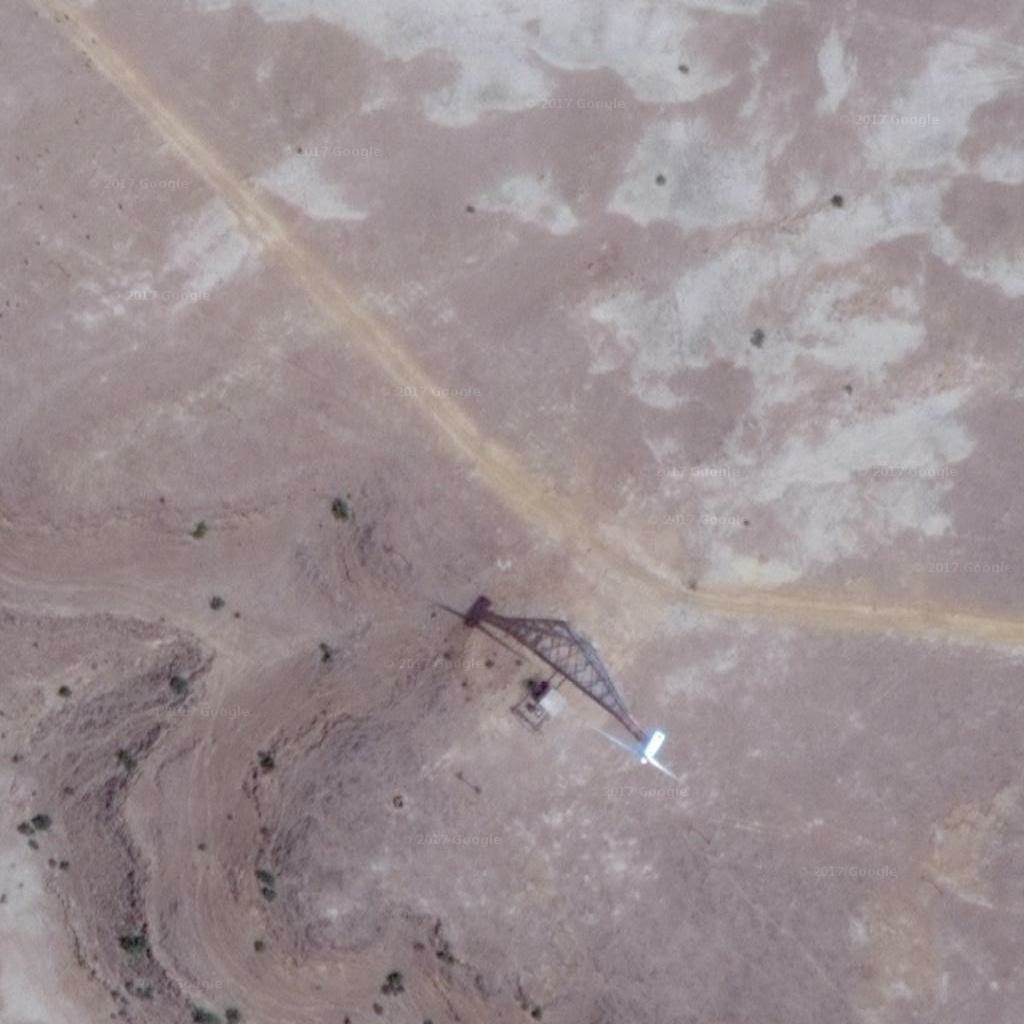Windmill: (431, 599, 625, 737)
